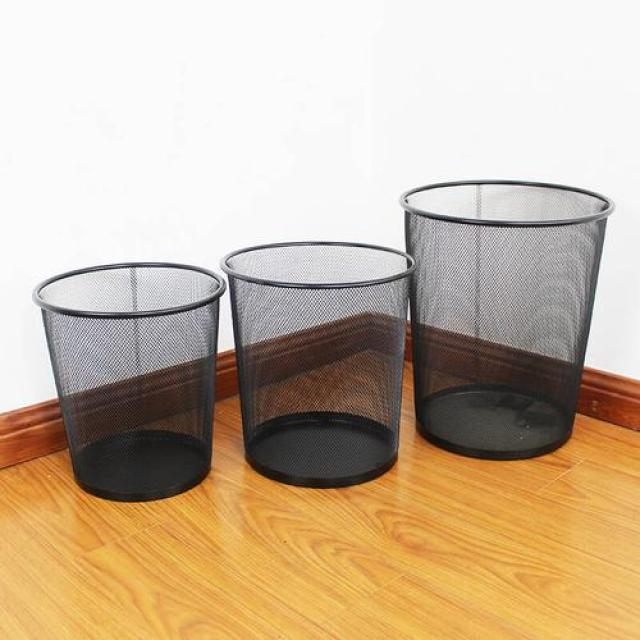dustbin: (395, 175, 624, 466), (220, 235, 418, 494), (28, 253, 230, 505)
